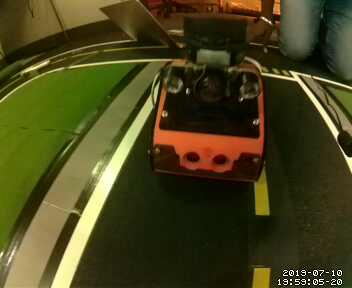pheeno: (150, 14, 271, 184)
